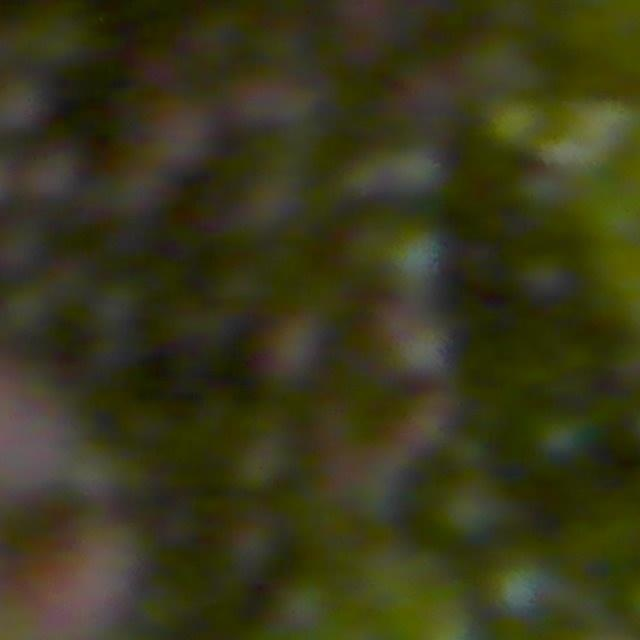SeaGrape: (0, 494, 141, 638), (125, 89, 232, 182), (232, 78, 325, 157), (361, 296, 450, 378), (252, 312, 325, 390), (435, 472, 512, 544), (376, 222, 449, 297), (490, 556, 559, 622), (222, 516, 283, 577), (24, 145, 84, 204), (530, 411, 591, 466), (0, 74, 49, 135)
